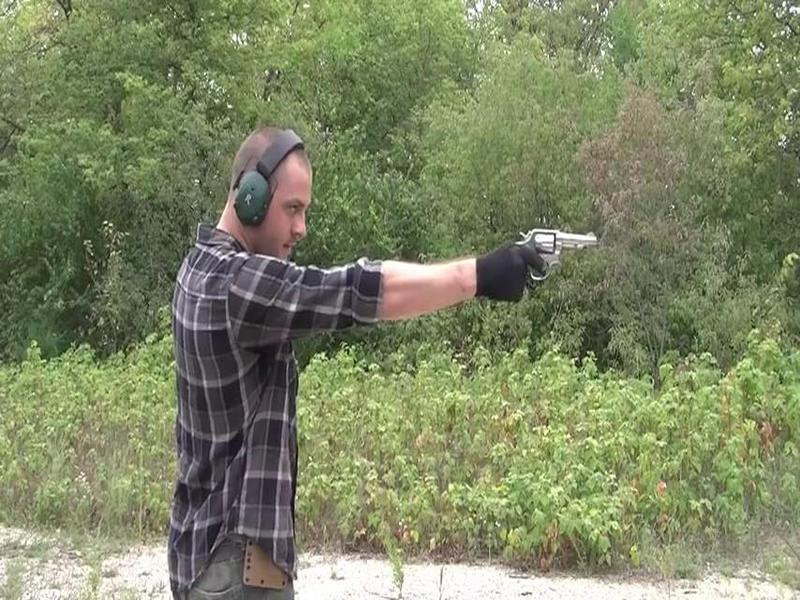Revolver: (505, 216, 602, 285)
